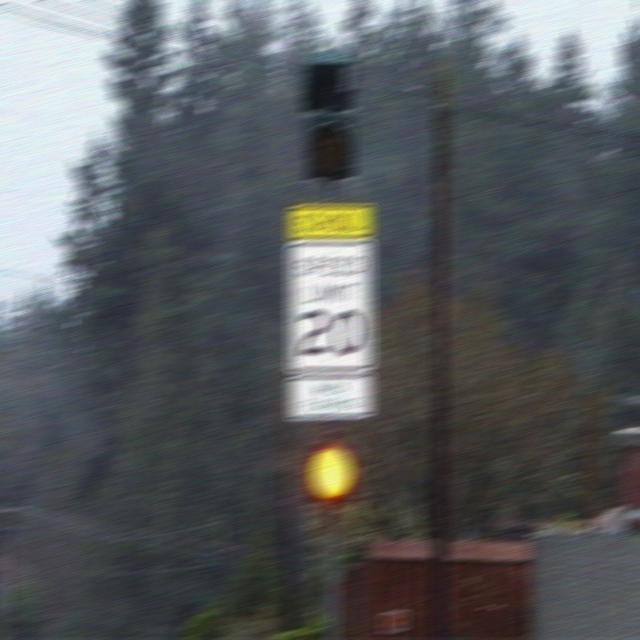speedLimit20: (286, 234, 380, 381)
